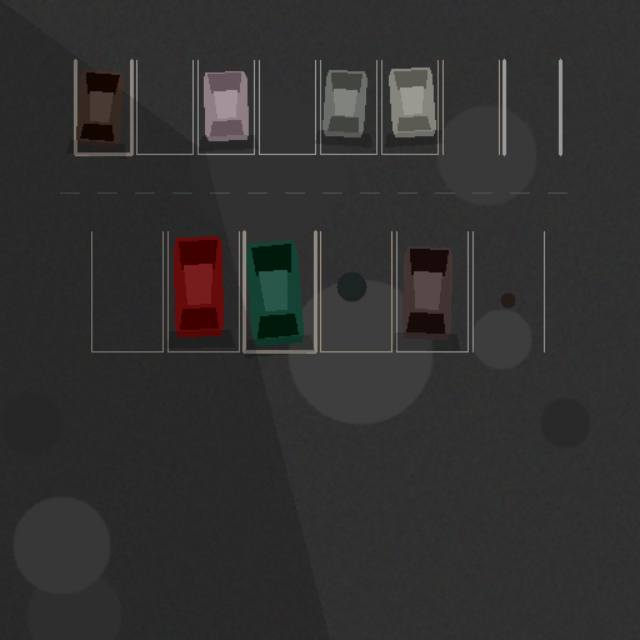space-empty: (472, 231, 544, 351), (91, 231, 162, 351), (320, 231, 391, 351), (136, 60, 193, 154), (259, 60, 315, 154), (443, 60, 499, 154), (504, 60, 560, 154)
space-occupied: (396, 231, 468, 351), (168, 231, 239, 351), (244, 231, 315, 351), (197, 60, 254, 154), (75, 60, 131, 154), (320, 60, 376, 154), (381, 60, 437, 154)
